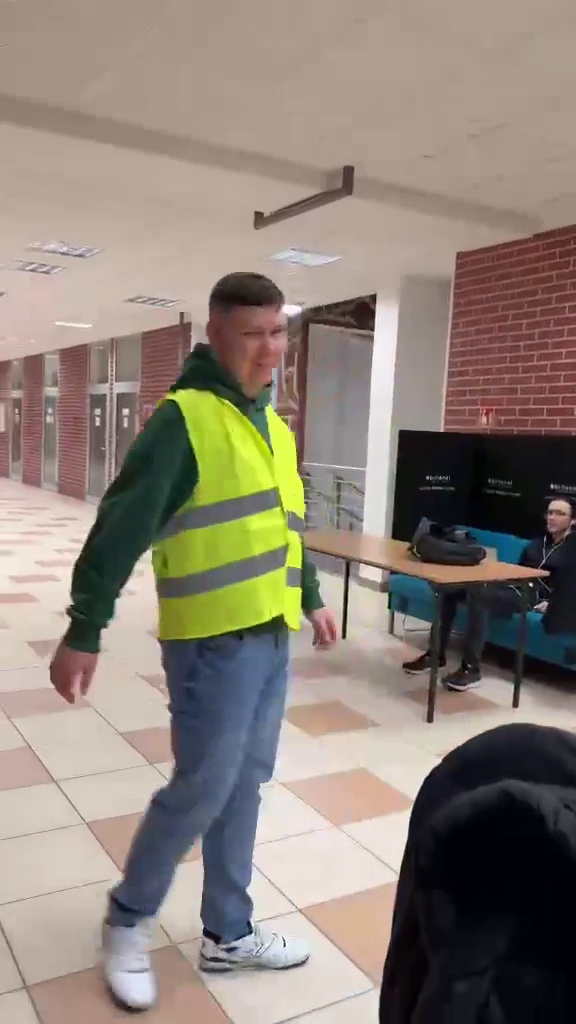no vest: (426, 480, 574, 662)
vest: (60, 272, 342, 987)
